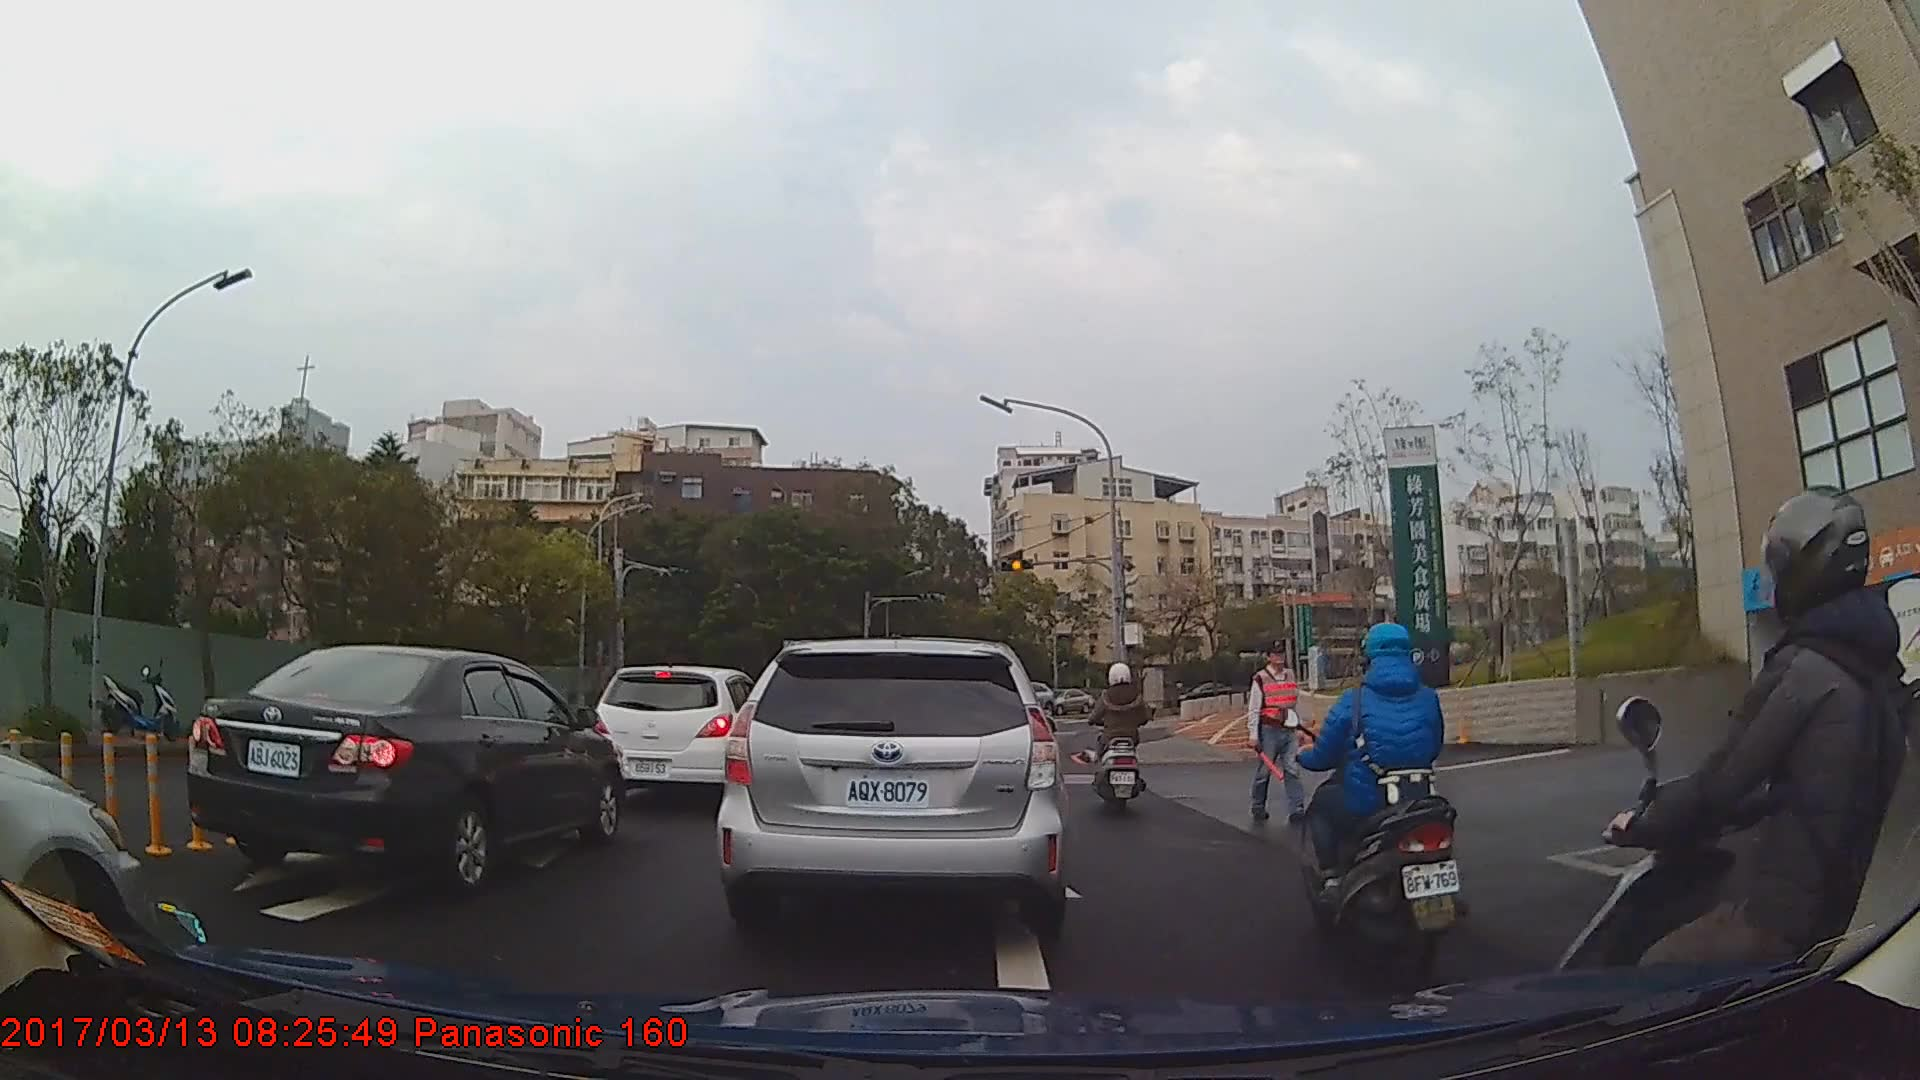pedestrian: (1244, 640, 1309, 823)
rider: (1555, 481, 1920, 1080), (1293, 617, 1471, 963), (1091, 666, 1156, 819)
vehicle: (186, 644, 626, 896), (717, 635, 1068, 936), (586, 664, 768, 809), (1169, 678, 1234, 711), (1053, 688, 1093, 717)
